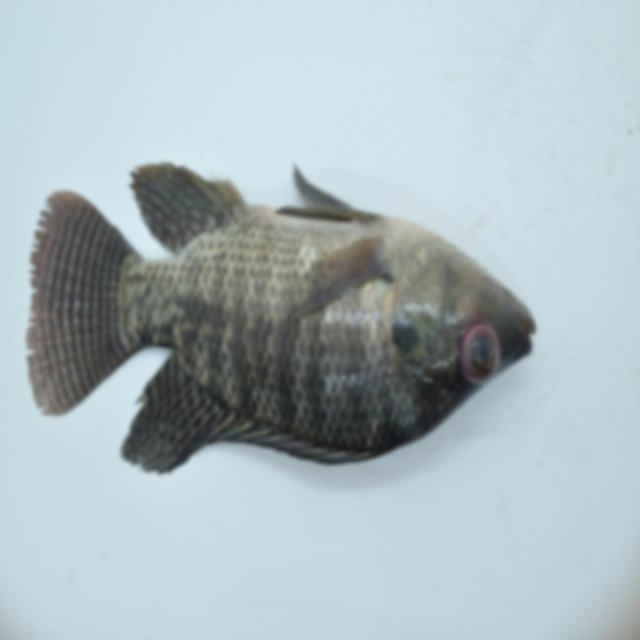streptococcus Disease: (24, 160, 541, 472)
